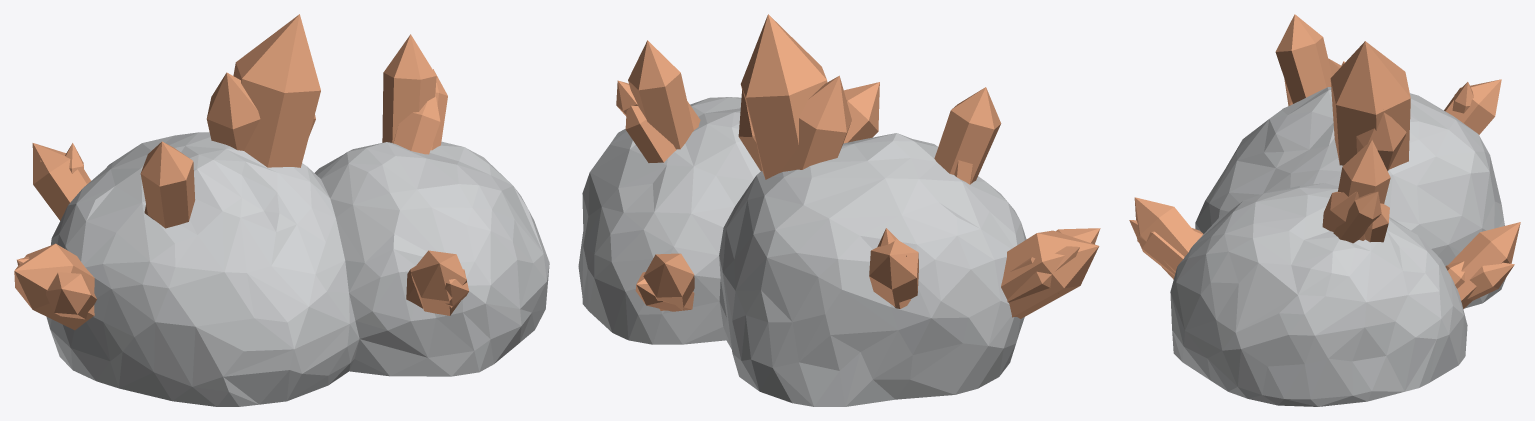
File: CopperOre3.fbx
3 views of the same model, side by side, from view 1: azimuth 30°, elevation 25°; view 2: azimuth 150°, elevation 25°; view 3: azimuth 270°, elevation 25° (orthographic). The views are drawn at different scales.
Visible parts, largest first — view 1: CopperOre3; view 2: CopperOre3; view 3: CopperOre3.
Part boxes in pixels (x1=…): CopperOre3: x1=14, y1=14, x2=549, y2=406; CopperOre3: x1=578, y1=14, x2=1100, y2=406; CopperOre3: x1=1129, y1=14, x2=1520, y2=406.
Bounding box in the file's own units: 2.76 × 1.58 × 2.01.
